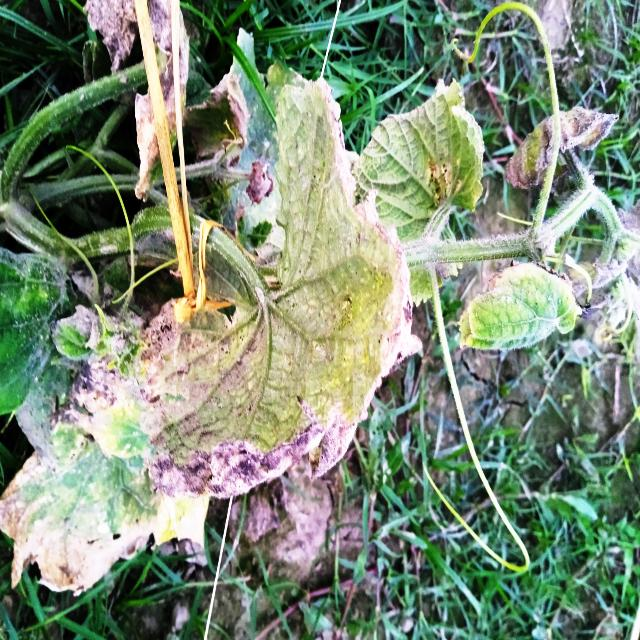Bacterial-Wilt: (502, 104, 620, 190)
